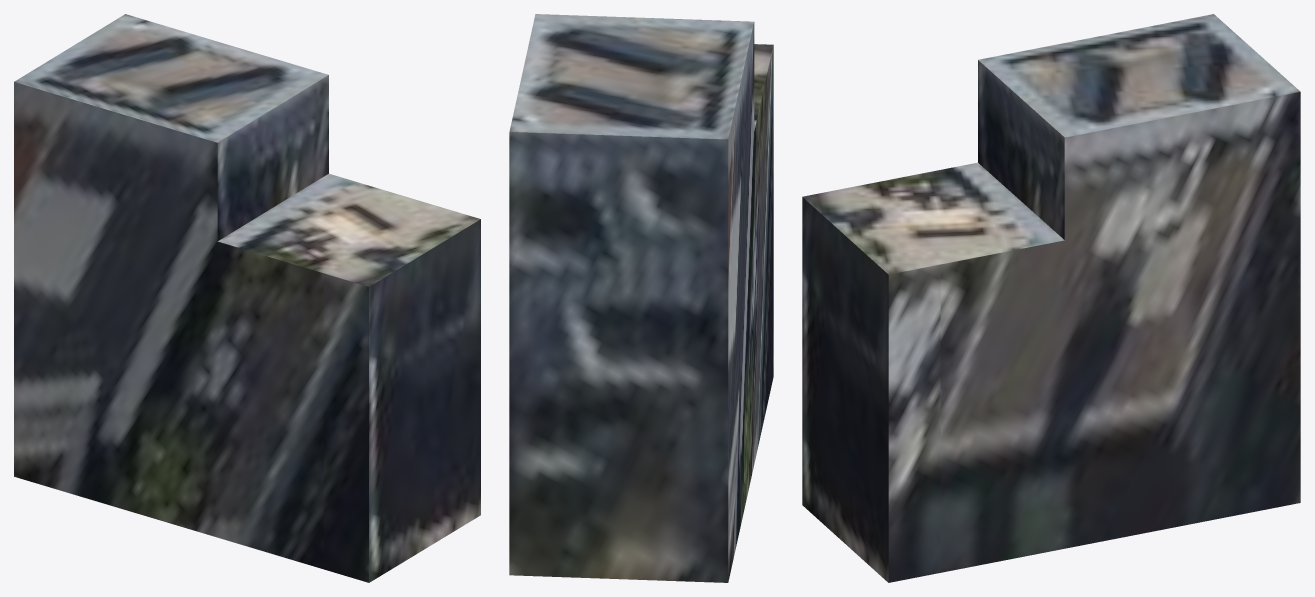
Rendered from DEB_LOD2_UUID_7f874add-e266-420a-a7b7-be53f51b12d0.dae.
3 renders of one model, left to right at view 1: azimuth 30°, elevation 25°; view 2: azimuth 150°, elevation 25°; view 3: azimuth 270°, elevation 25°, orthographic. The views are drawn at different scales.
Bounding box in the file's own units: 11 × 14.68 × 13.36.
Materials: 2 (1 with a texture image).
